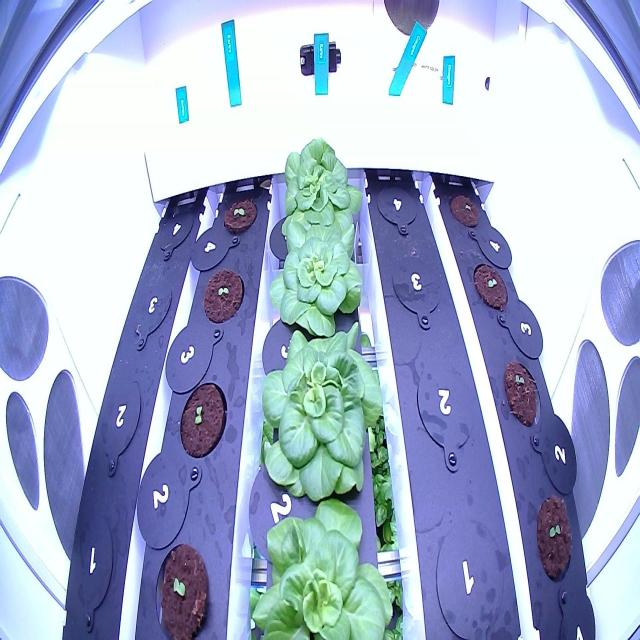empty_pod: (428, 503, 516, 639), (410, 345, 478, 483), (68, 505, 117, 635), (94, 368, 148, 482), (390, 247, 450, 331), (126, 269, 175, 355), (374, 170, 422, 242), (154, 197, 197, 267)
germination: (148, 538, 216, 640), (174, 376, 231, 463), (532, 489, 578, 586), (501, 354, 546, 434), (197, 260, 250, 326), (468, 254, 516, 315), (217, 185, 262, 242), (448, 179, 487, 235)
young: (254, 314, 388, 508), (246, 492, 396, 640), (260, 216, 382, 342), (263, 126, 377, 239)
